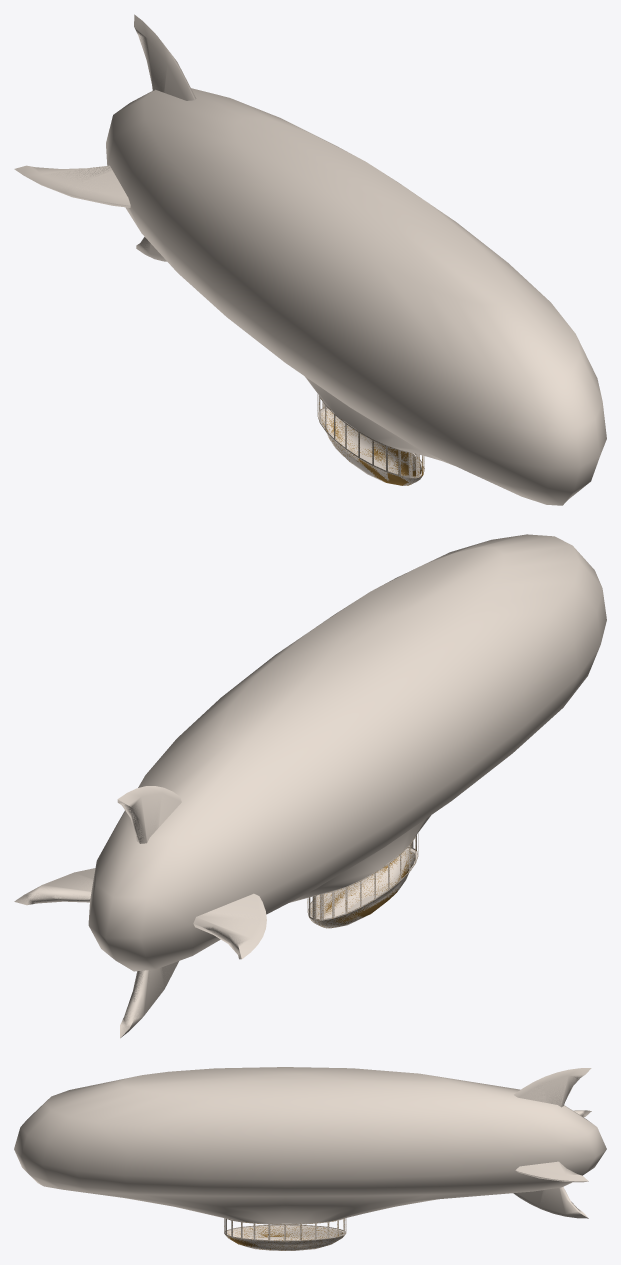
3 views of the same model, one above another, from view 1: azimuth 30°, elevation 25°; view 2: azimuth 150°, elevation 25°; view 3: azimuth 270°, elevation 25° (orthographic). The views are drawn at different scales.
Parts seen in each view (by area): view 1: Material2; view 2: Material2; view 3: Material2.
Boxes of the visible parts, box(x1,y1,x2,y2) form: Material2: box(14, 14, 606, 505); Material2: box(14, 534, 606, 1038); Material2: box(14, 1067, 606, 1250).
Size of the model in its own units: 2467 by 2939 by 8797.
